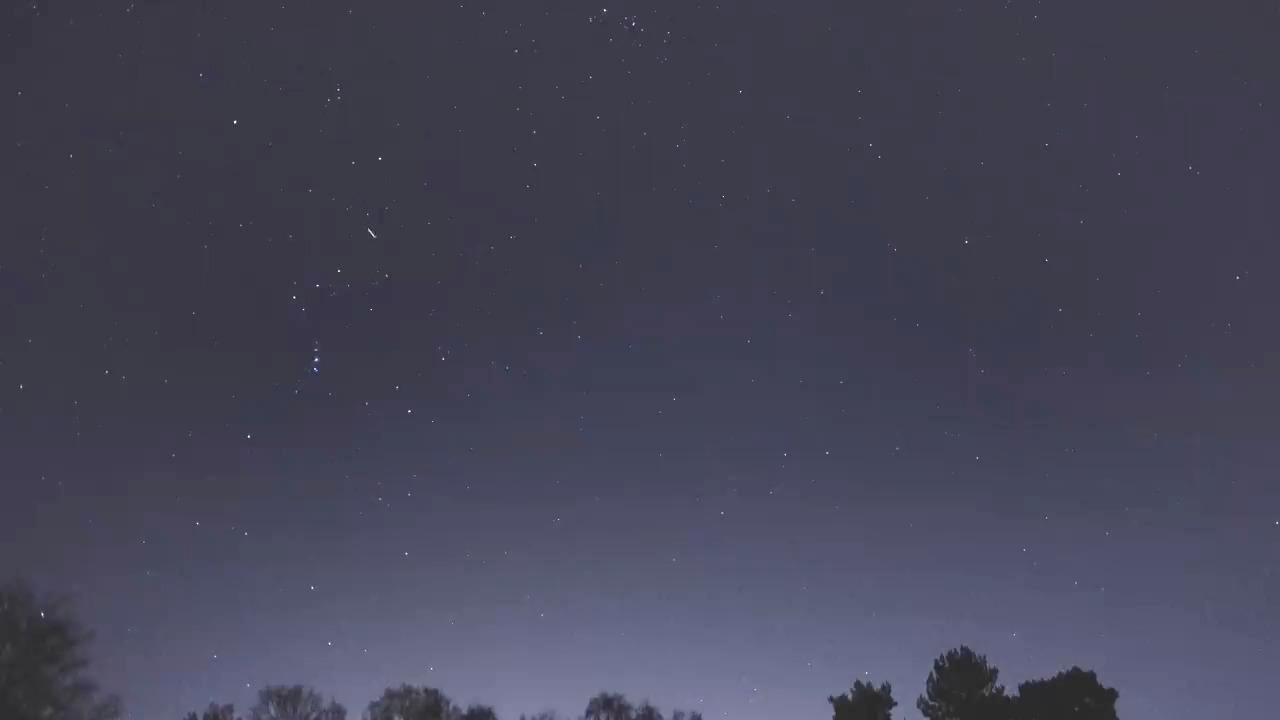meteorite: (345, 221, 394, 244)
